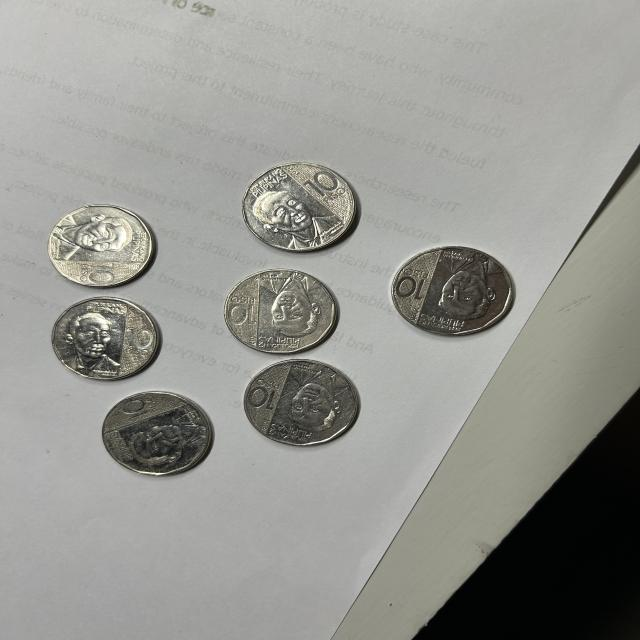10_New_Front: (298, 166, 350, 206), (395, 263, 436, 301), (244, 373, 281, 415), (226, 293, 262, 334), (118, 323, 152, 363), (115, 395, 154, 422), (72, 262, 107, 288)
